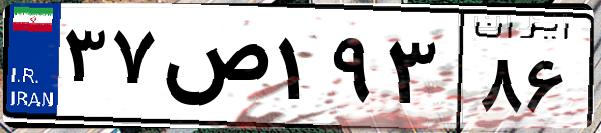1: (270, 28, 330, 110)
3: (385, 28, 445, 110), (57, 26, 110, 100)
6: (525, 38, 570, 115)
7: (110, 28, 158, 98)
8: (475, 38, 525, 113)
9: (330, 28, 385, 110)
ص: (158, 20, 270, 120)
